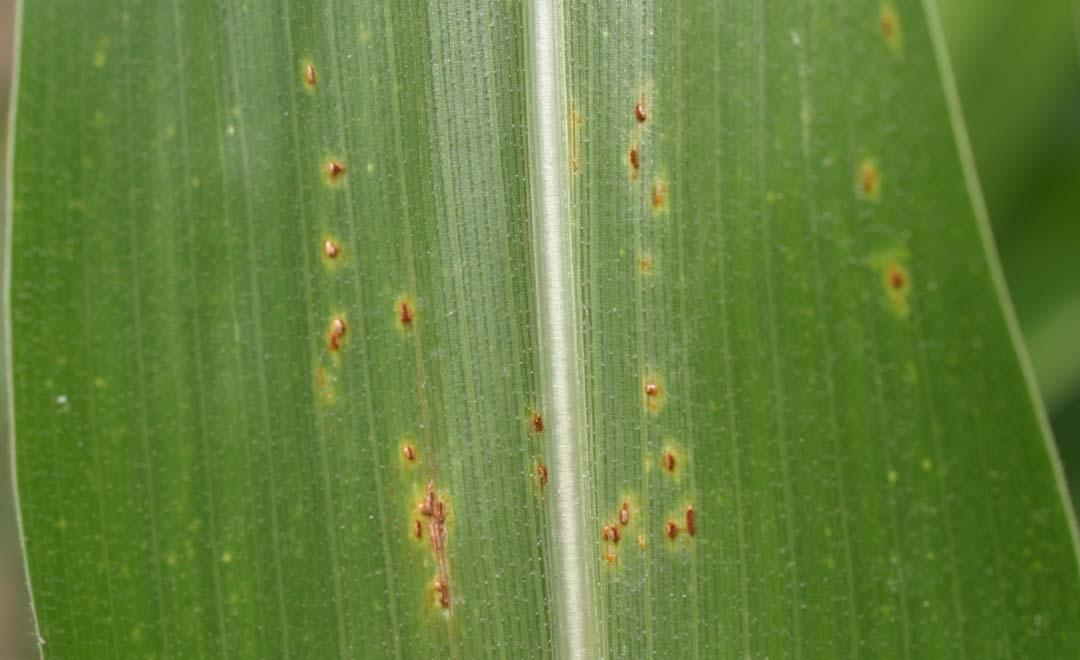Corn rust leaf: (4, 1, 1080, 659)
